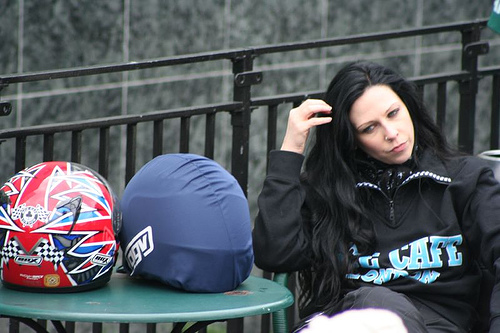helmet: (119, 154, 255, 286), (7, 163, 120, 281)
